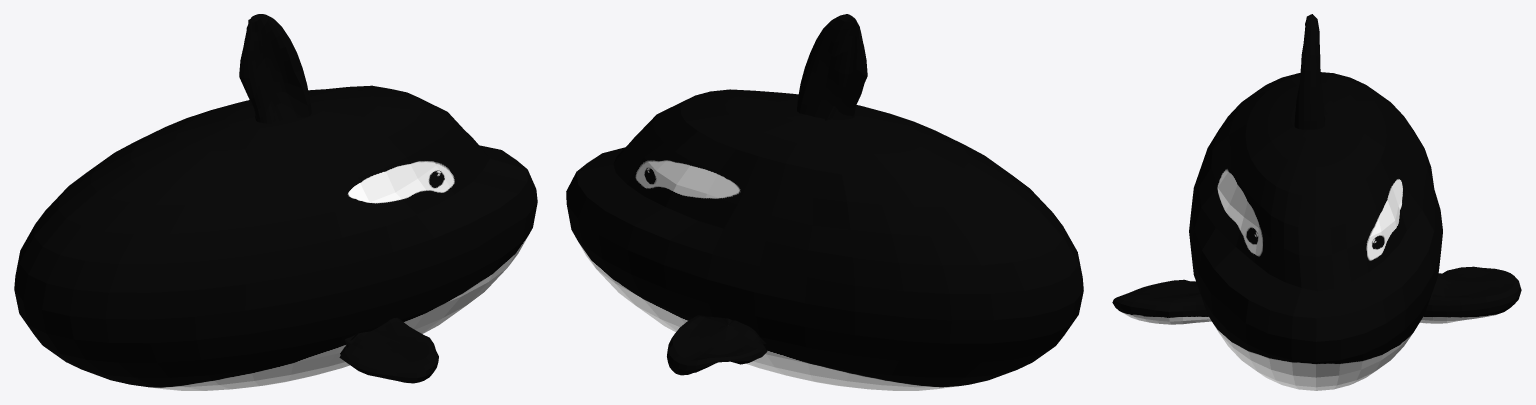
File: Orca.fbx
3 views of the same model, side by side, from view 1: azimuth 30°, elevation 25°; view 2: azimuth 150°, elevation 25°; view 3: azimuth 270°, elevation 25° (orthographic). The views are drawn at different scales.
Parts seen in each view (by area): view 1: Body, Dorsal Fin, Pectoral Fin Right; view 2: Body, Dorsal Fin, Pectoral Fin Left; view 3: Body, Pectoral Fin Left, Pectoral Fin Right, Dorsal Fin.
Part boxes in pixels (x1,y1,x2,y2): Body: (14,85,537,390); Dorsal Fin: (239,14,311,123); Pectoral Fin Right: (339,318,438,383); Body: (566,89,1083,390); Dorsal Fin: (797,14,867,120); Pectoral Fin Left: (667,314,767,375); Body: (1189,72,1442,390); Pectoral Fin Left: (1419,266,1521,323); Pectoral Fin Right: (1112,279,1211,324); Dorsal Fin: (1294,14,1327,129).
Size of the model in its own units: 1554 by 1057 by 1217.
Materials: 1 (1 with a texture image).
